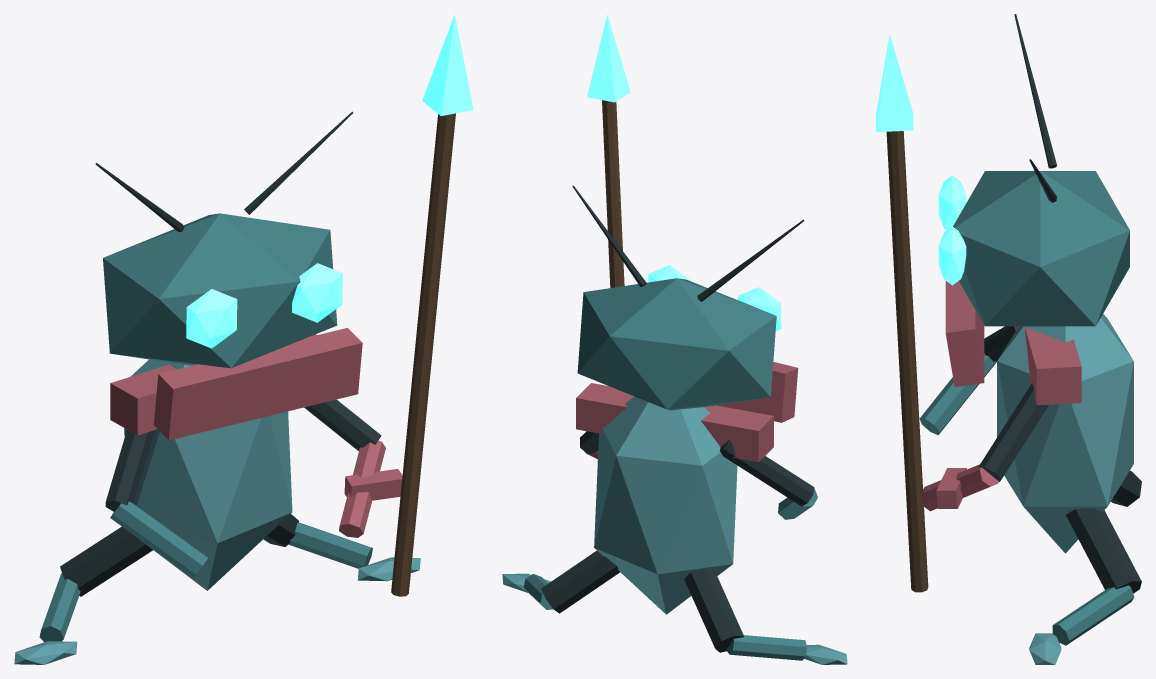
The model's file is oaven_spear.glb.
The picture shows the model from 3 angles, left to right: view 1: azimuth 30°, elevation 25°; view 2: azimuth 150°, elevation 25°; view 3: azimuth 270°, elevation 25°; orthographic projection. The views are drawn at different scales.
Parts seen in each view (by area): view 1: wide_oaven_head, body_hunched_thorax, ragged_scarf_front, spear_shaft, thigh_-1, cyan_spear_head, shoulder_wrap, forearm_wrap_-1, left_glowing_eye, right_glowing_eye, upper_arm_-1, shin_1 (+7 smaller); view 2: body_hunched_thorax, wide_oaven_head, shoulder_wrap, spear_shaft, thigh_-1, thigh_1, cyan_spear_head, ragged_scarf_front, upper_arm_-1, shin_-1, left_glowing_eye, left_antenna (+4 smaller); view 3: wide_oaven_head, body_hunched_thorax, spear_shaft, shoulder_wrap, ragged_scarf_front, thigh_1, upper_arm_1, cyan_spear_head, shin_1, forearm_wrap_-1, right_glowing_eye, forearm_wrap_1 (+6 smaller).
Boxes of the visible parts, x1=… form: wide_oaven_head: x1=103, y1=213, x2=337, y2=368; body_hunched_thorax: x1=124, y1=359, x2=292, y2=590; ragged_scarf_front: x1=154, y1=328, x2=362, y2=440; spear_shaft: x1=391, y1=113, x2=455, y2=596; thigh_-1: x1=60, y1=526, x2=152, y2=596; cyan_spear_head: x1=422, y1=14, x2=473, y2=115; shoulder_wrap: x1=110, y1=334, x2=316, y2=435; forearm_wrap_-1: x1=110, y1=501, x2=207, y2=577; left_glowing_eye: x1=186, y1=289, x2=237, y2=348; right_glowing_eye: x1=292, y1=263, x2=342, y2=322; upper_arm_-1: x1=105, y1=429, x2=154, y2=511; shin_1: x1=288, y1=522, x2=372, y2=568; body_hunched_thorax: x1=594, y1=396, x2=737, y2=614; wide_oaven_head: x1=577, y1=278, x2=776, y2=410; shoulder_wrap: x1=576, y1=383, x2=773, y2=462; spear_shaft: x1=602, y1=100, x2=624, y2=287; thigh_-1: x1=684, y1=568, x2=743, y2=652; thigh_1: x1=541, y1=550, x2=619, y2=613; cyan_spear_head: x1=587, y1=14, x2=630, y2=102; ragged_scarf_front: x1=716, y1=362, x2=798, y2=422; upper_arm_-1: x1=719, y1=439, x2=814, y2=506; shin_-1: x1=726, y1=635, x2=806, y2=660; left_glowing_eye: x1=738, y1=287, x2=781, y2=330; left_antenna: x1=697, y1=219, x2=804, y2=301; wide_oaven_head: x1=953, y1=171, x2=1129, y2=326; body_hunched_thorax: x1=997, y1=314, x2=1133, y2=553; spear_shaft: x1=886, y1=131, x2=928, y2=592; shoulder_wrap: x1=1014, y1=326, x2=1081, y2=405; ragged_scarf_front: x1=945, y1=281, x2=984, y2=386; thigh_1: x1=1066, y1=508, x2=1141, y2=593; upper_arm_1: x1=978, y1=383, x2=1048, y2=481; cyan_spear_head: x1=876, y1=34, x2=913, y2=132; shin_1: x1=1052, y1=585, x2=1134, y2=645; forearm_wrap_-1: x1=919, y1=353, x2=996, y2=435; right_glowing_eye: x1=938, y1=226, x2=966, y2=285; forearm_wrap_1: x1=923, y1=464, x2=998, y2=511.
Size of the model in its own units: 1.85 by 2.71 by 1.06.
